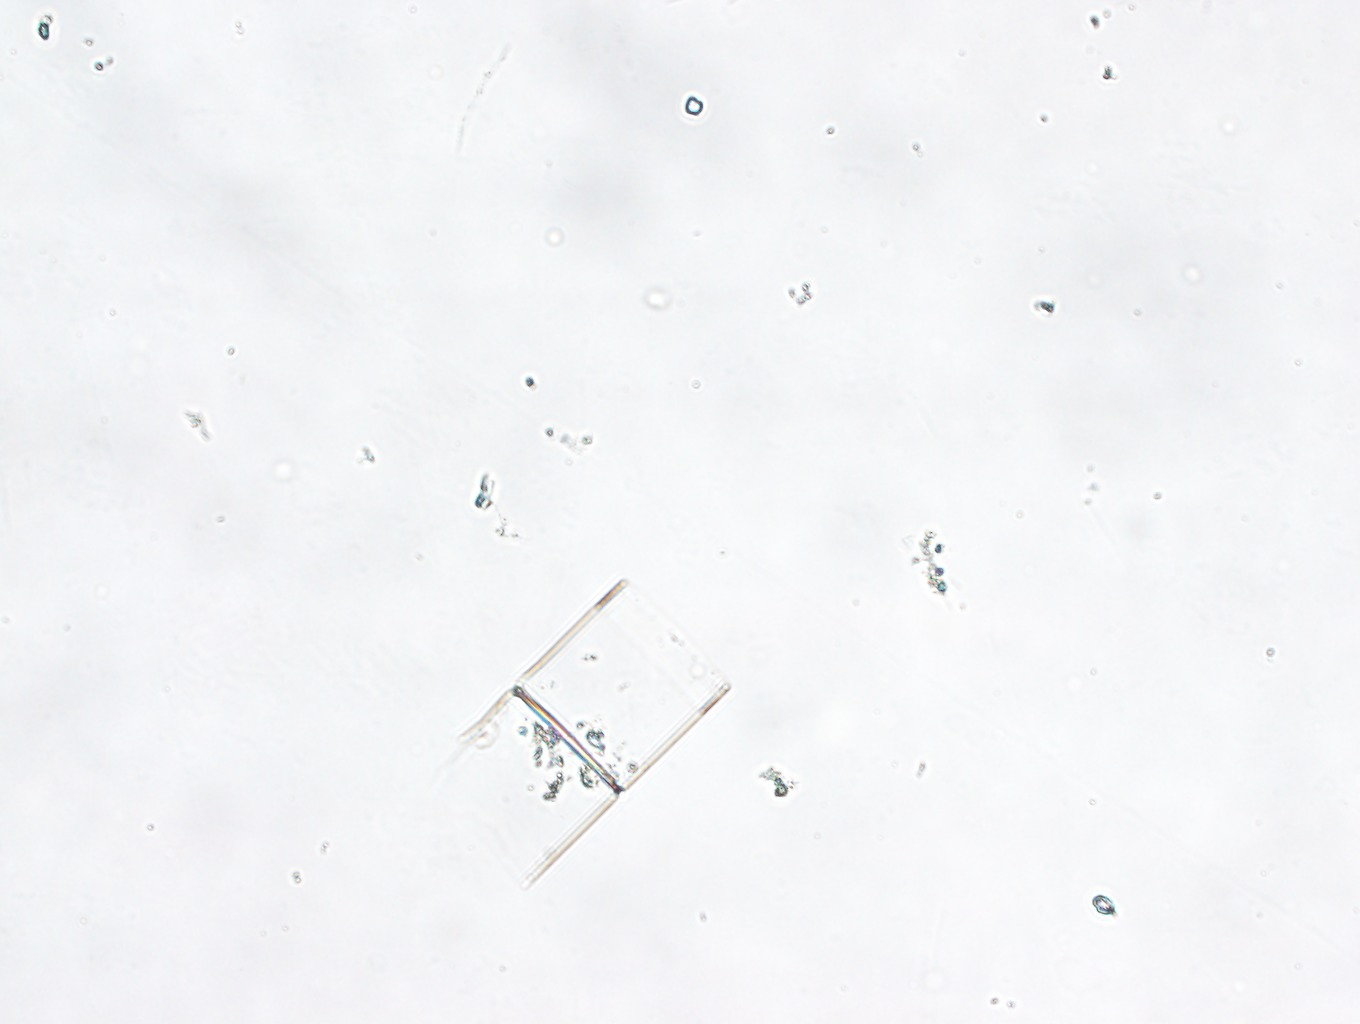guinardia flaccida: (452, 578, 731, 890)
